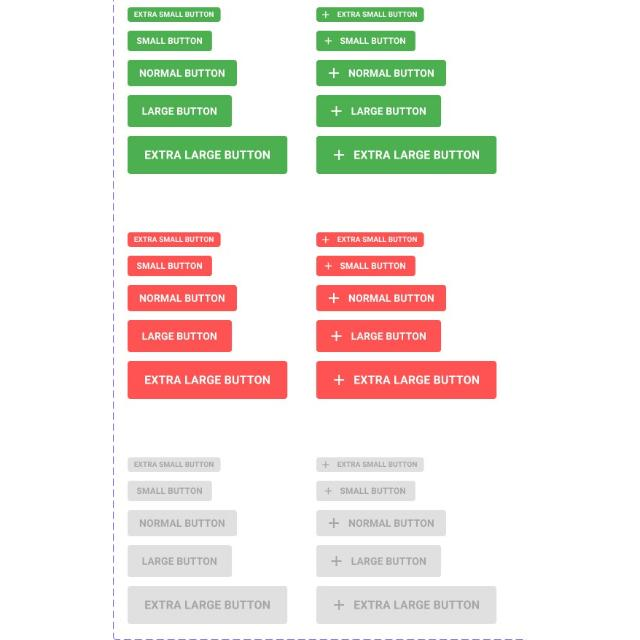QLabel: (142, 374, 274, 386), (143, 599, 275, 611), (352, 374, 482, 386), (142, 150, 274, 160), (349, 600, 481, 610), (352, 150, 481, 160), (343, 293, 435, 303), (136, 293, 228, 303), (136, 518, 228, 528), (136, 68, 227, 78), (345, 518, 435, 528), (347, 68, 433, 78), (350, 331, 428, 342), (138, 556, 222, 566), (348, 106, 430, 116), (139, 331, 221, 341), (347, 556, 429, 566), (132, 486, 208, 496), (139, 106, 221, 115), (130, 460, 218, 468), (334, 460, 420, 468), (340, 36, 408, 46), (335, 10, 417, 18), (133, 11, 214, 19), (132, 235, 216, 242), (334, 235, 418, 242), (134, 36, 206, 44), (337, 262, 409, 270), (134, 262, 206, 270), (337, 487, 409, 495)
VBtn: (316, 360, 498, 400), (316, 136, 498, 174), (316, 586, 498, 624), (128, 360, 288, 400), (128, 136, 288, 174), (128, 586, 288, 624), (316, 94, 442, 128), (316, 544, 442, 578), (316, 320, 442, 352), (317, 284, 447, 312), (127, 94, 233, 128), (126, 544, 232, 578), (316, 509, 448, 536), (317, 59, 447, 86), (128, 320, 232, 352), (128, 284, 238, 312), (127, 59, 237, 86), (127, 509, 237, 536), (316, 480, 416, 502), (317, 30, 417, 51), (316, 256, 416, 276), (127, 481, 213, 502), (128, 30, 212, 51), (317, 7, 425, 23), (317, 457, 425, 473), (127, 256, 213, 276), (317, 232, 425, 246), (127, 7, 221, 23), (127, 232, 220, 248), (127, 458, 221, 472)
VIcon: (334, 599, 344, 611), (328, 68, 339, 78), (332, 105, 342, 116), (331, 556, 342, 566), (334, 150, 344, 160), (332, 332, 342, 342), (329, 293, 339, 303), (334, 375, 344, 385), (329, 518, 339, 528), (322, 11, 330, 19), (324, 262, 332, 270), (322, 236, 330, 244), (326, 37, 332, 45), (322, 462, 330, 468), (324, 488, 332, 494)
